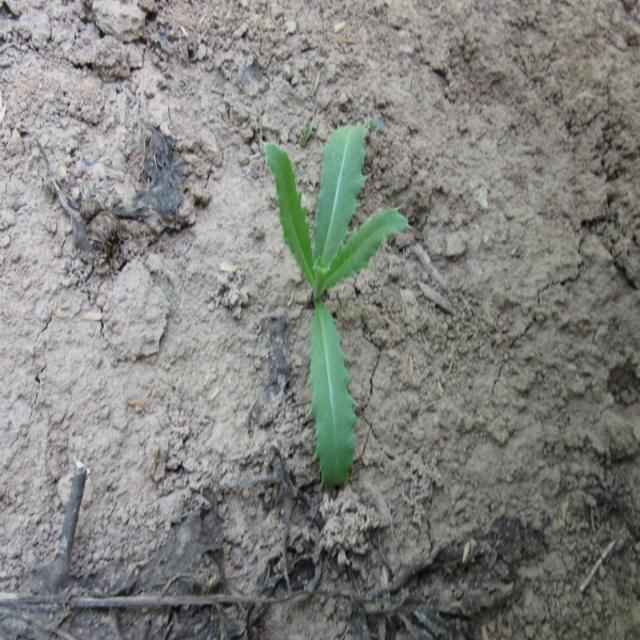cs: (259, 114, 415, 493)
